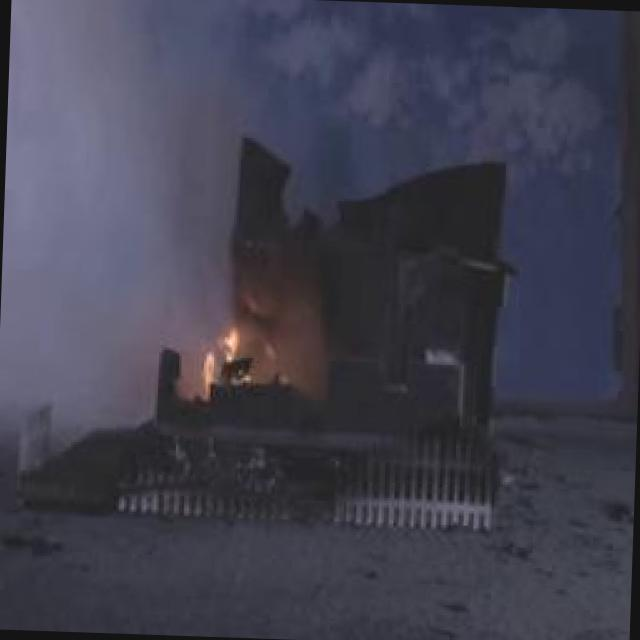fire: (181, 295, 265, 400)
smoke: (0, 0, 246, 305)
